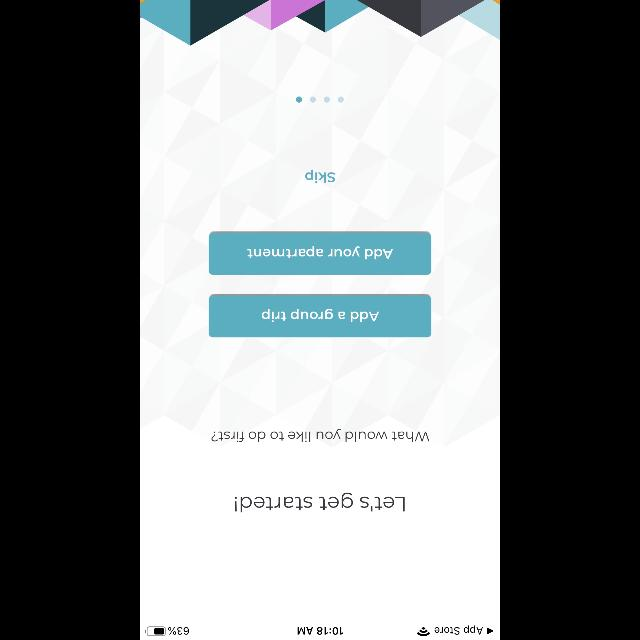image: (140, 0, 500, 46)
pageindicator: (296, 96, 344, 102)
text: (236, 492, 404, 512), (211, 428, 429, 442), (305, 170, 335, 182)
textbutton: (208, 294, 432, 338), (208, 232, 432, 274)
uppertaskbar: (140, 625, 500, 639)
